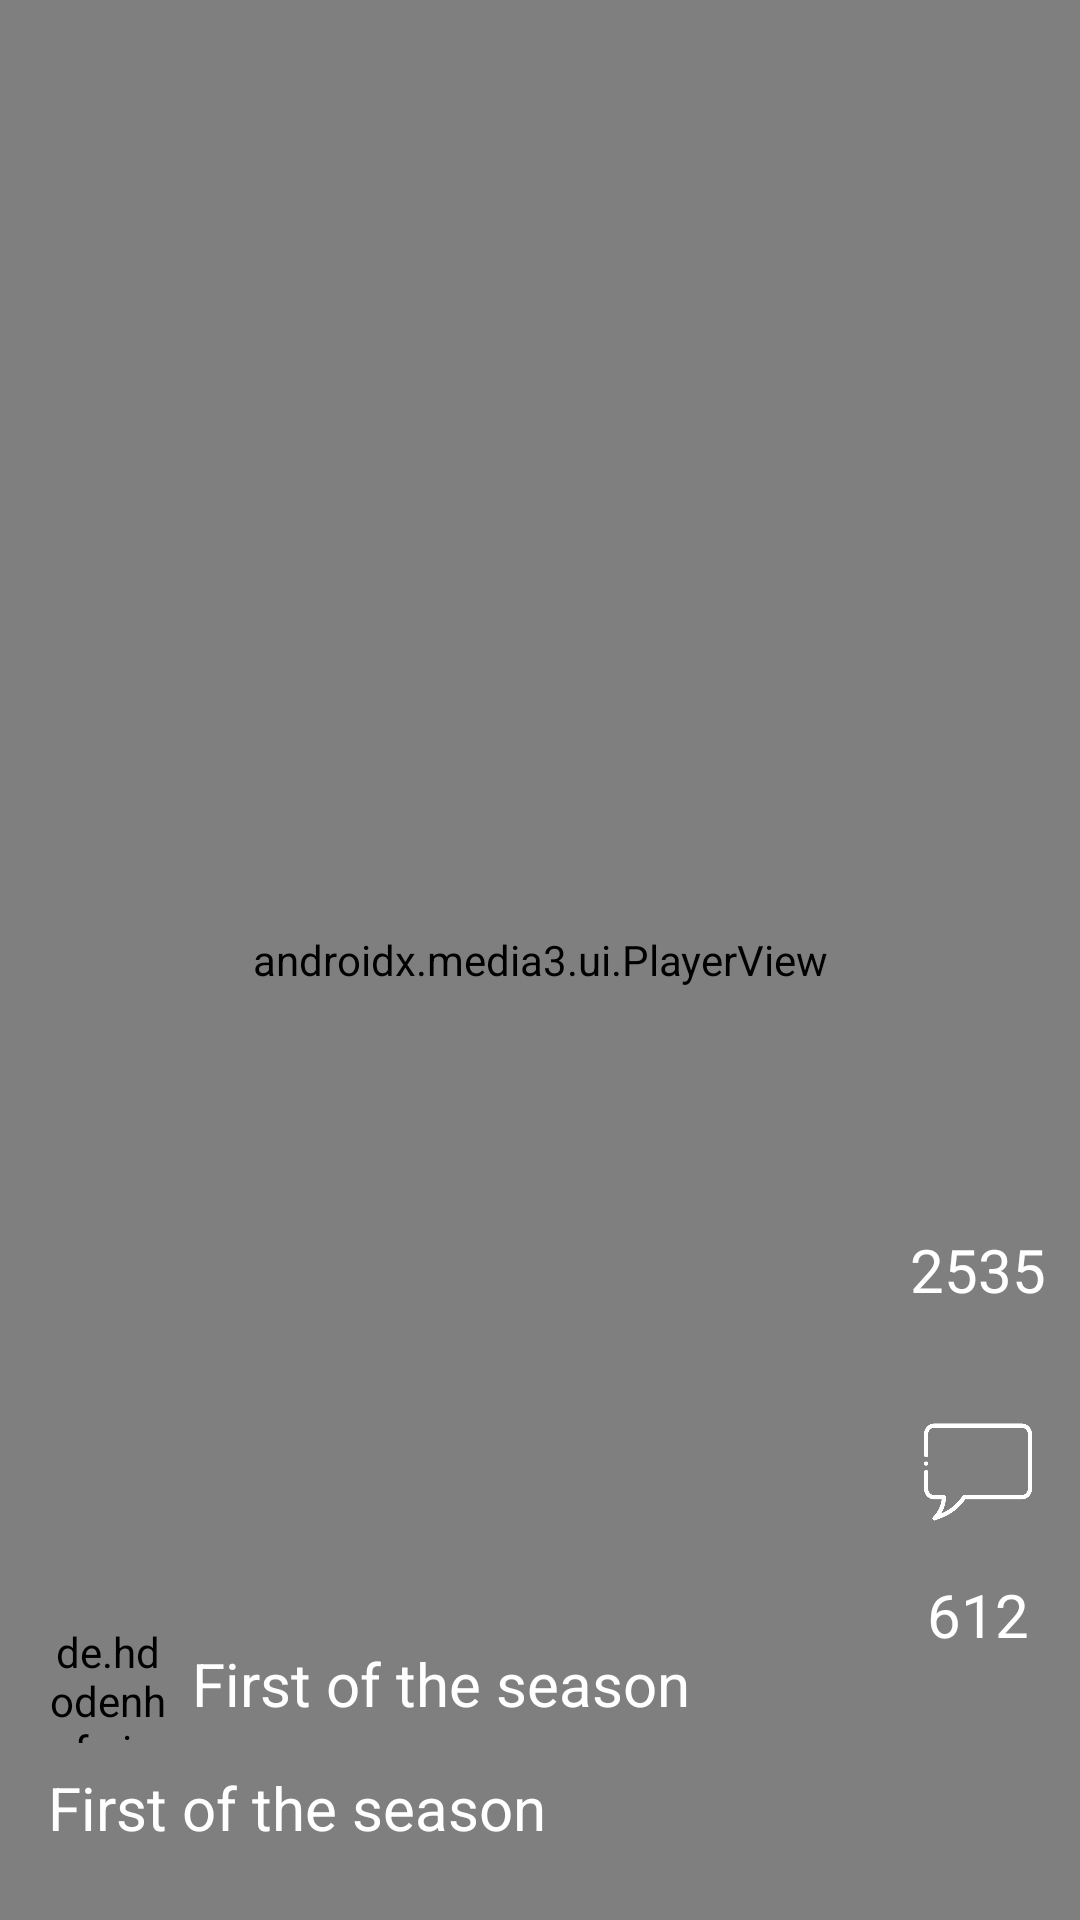

Named icons in this screenshot (1080w x 1920h) and their bounding boxes, [x1=x1, y1=y1, x2=x2, y2=y2]:
comments: [x1=924, y1=1423, x2=1032, y2=1521]
